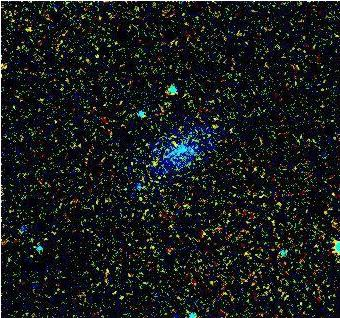star: (139, 148, 169, 178)
